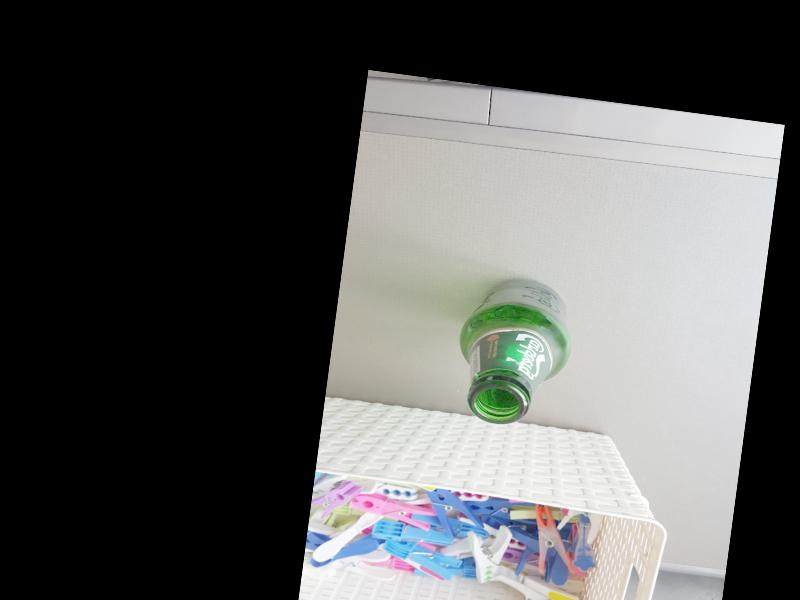Beer: (449, 270, 580, 431)
